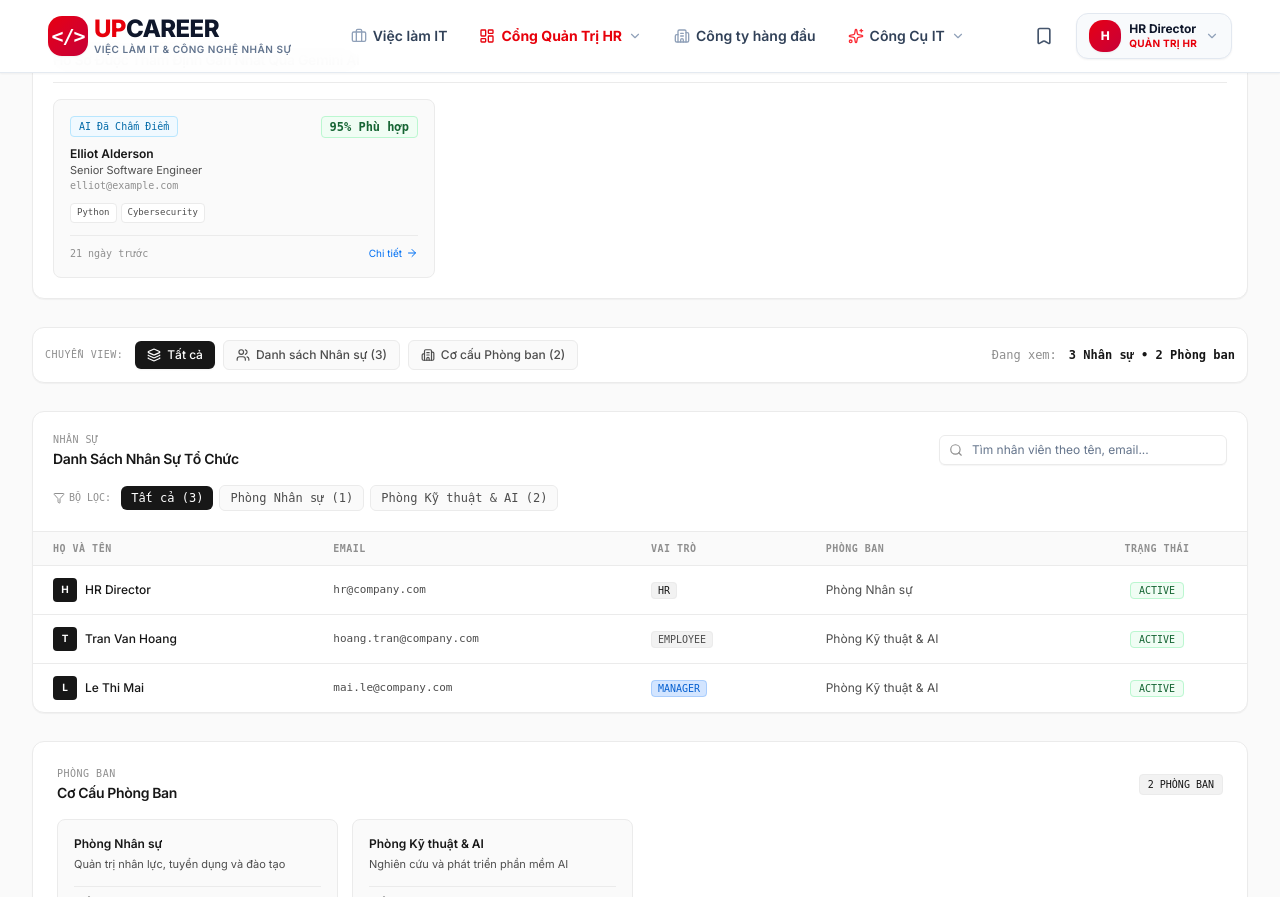
Scenario: DashboardPage - Chức Năng Bảng Điều Khiển Quản Lý › 7. Hiển thị trạng thái Không tìm thấy nhân sự khi từ khóa tìm kiếm không khớp
The image size is (1280, 897).
(page scrolled)
Expected: the text "Tran Van Hoang" is shown, x1=85 y1=631 x2=177 y2=647
Type "khong_ton_tai_123456" into the field with placeholder "Tìm nhân viên theo tên, email..." at [1083, 450], box x1=939 y1=435 x2=1227 y2=465
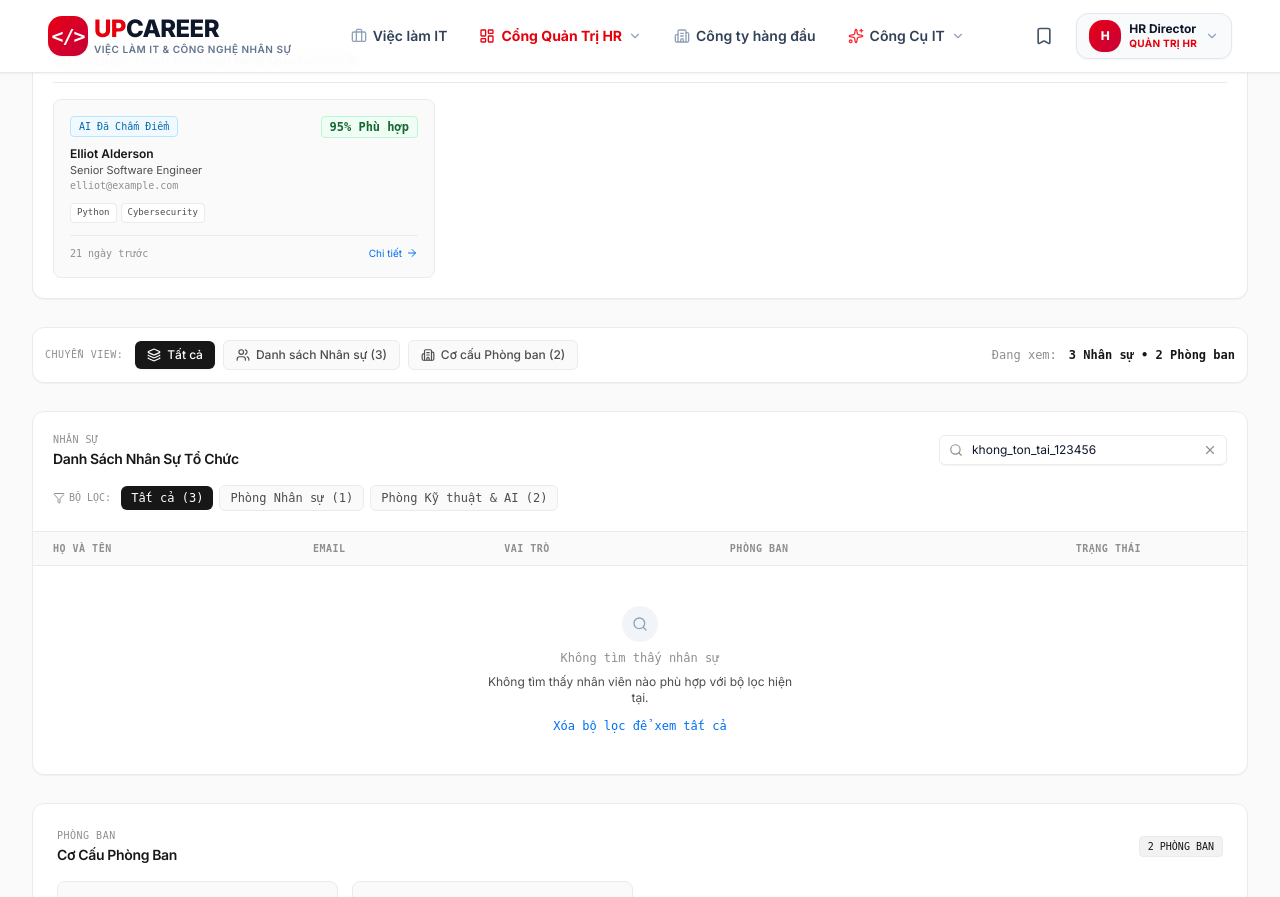
Result: the text "Không tìm thấy nhân sự" is shown at x1=560 y1=651 x2=720 y2=665
